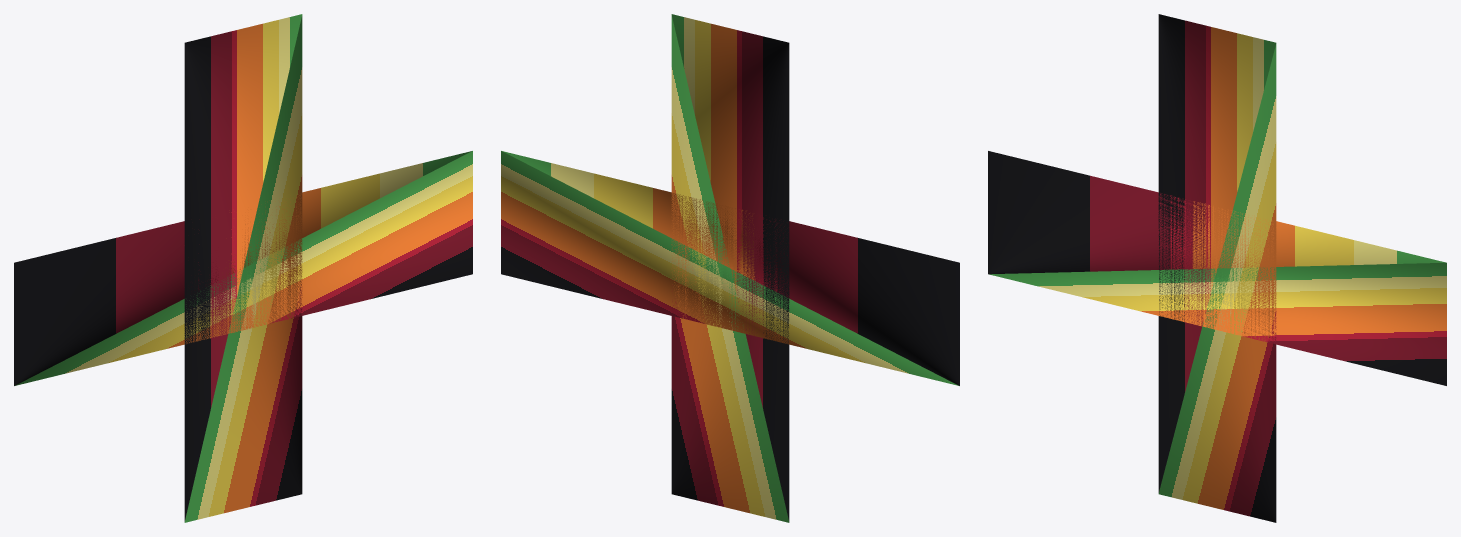
File: plus.glb
3 views of the same model, side by side, from view 1: azimuth 30°, elevation 25°; view 2: azimuth 150°, elevation 25°; view 3: azimuth 330°, elevation 25° (orthographic).
Parts seen in each view (by area): view 1: plus; view 2: plus; view 3: plus.
Boxes of the visible parts, x1,y1,x2,y2 form: plus: (14,14,472,522); plus: (501,14,959,522); plus: (988,14,1446,522).
Size of the model in its own units: 0.7 by 0.7 by 0.
Materials: 1 (1 with a texture image).
